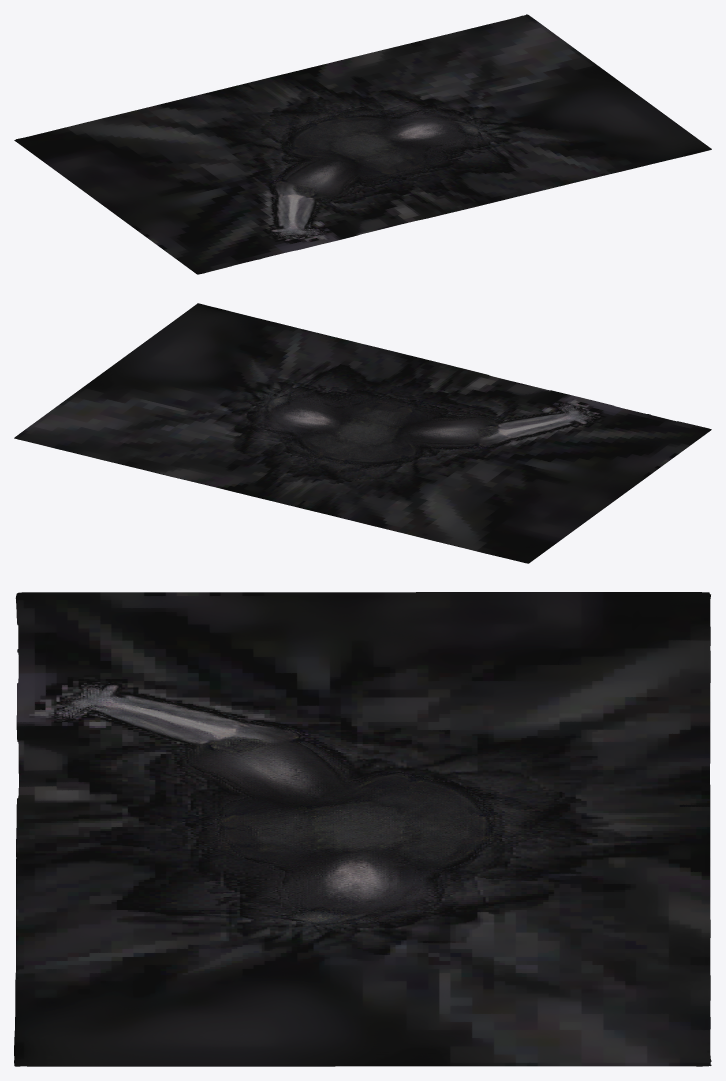
Rendered from trellis_result.glb.
The picture shows the model from 3 angles, top to bottom: view 1: azimuth 30°, elevation 25°; view 2: azimuth 150°, elevation 25°; view 3: azimuth 270°, elevation 25°; orthographic projection. The views are drawn at different scales.
Parts seen in each view (by area): view 1: world; view 2: world; view 3: world.
Boxes of the visible parts, x1,y1,x2,y2 form: world: (14, 14, 711, 274); world: (14, 303, 711, 563); world: (14, 592, 711, 1066).
Bounding box in the file's own units: 1 × 0.00181 × 0.622.
1 material, 1 textured.
